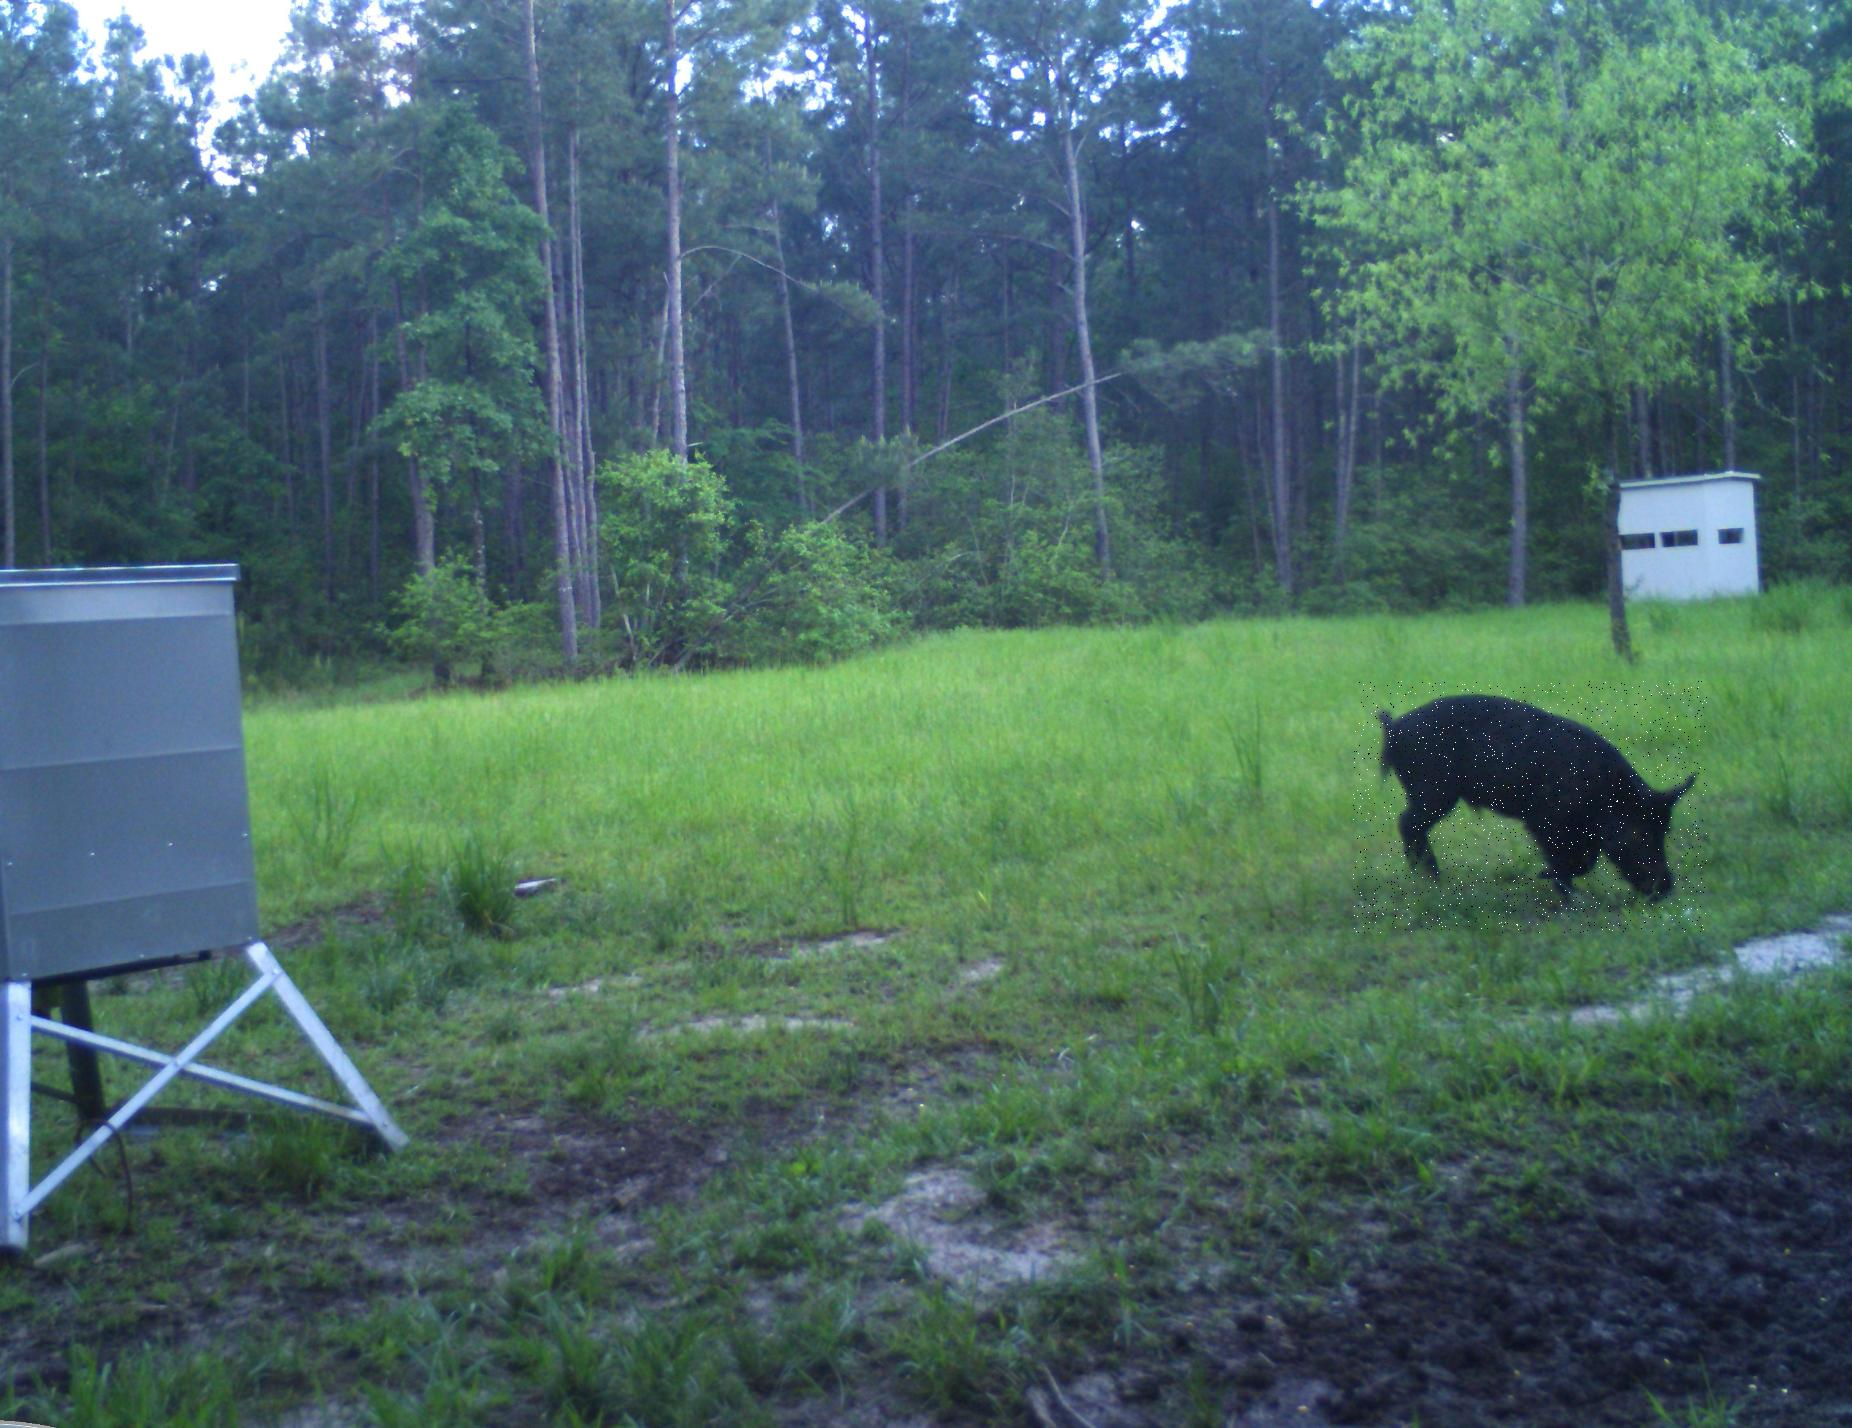Deer: (1353, 681, 1707, 933)
